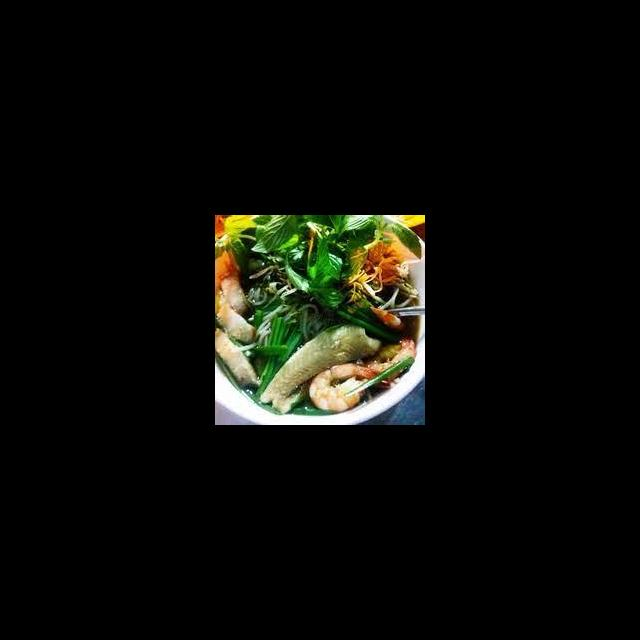ca: (256, 319, 384, 404)
thit heo quay: (216, 325, 263, 390), (216, 300, 258, 346), (216, 271, 252, 319)
tom: (307, 358, 392, 414), (356, 334, 420, 389), (365, 304, 406, 332)
